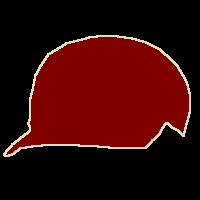hat: (4, 35, 190, 156)
